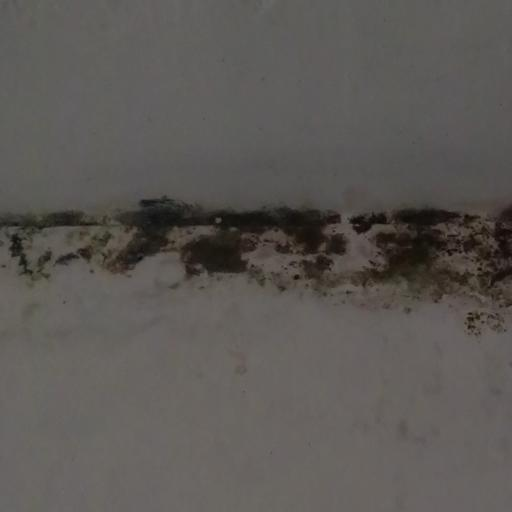algae: (5, 172, 512, 355)
